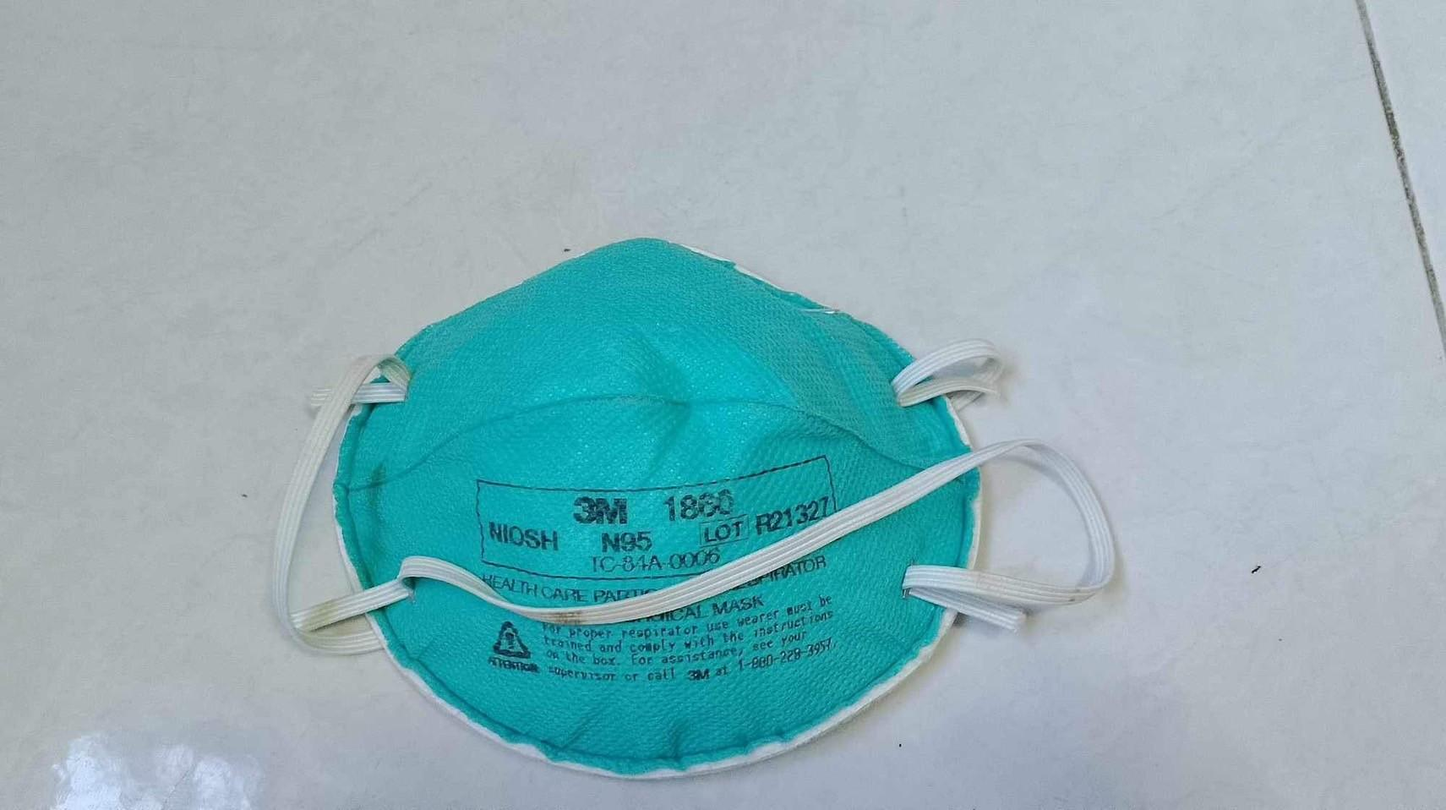Infectious: (271, 235, 1115, 780)
Sharps: (286, 433, 1067, 648)
